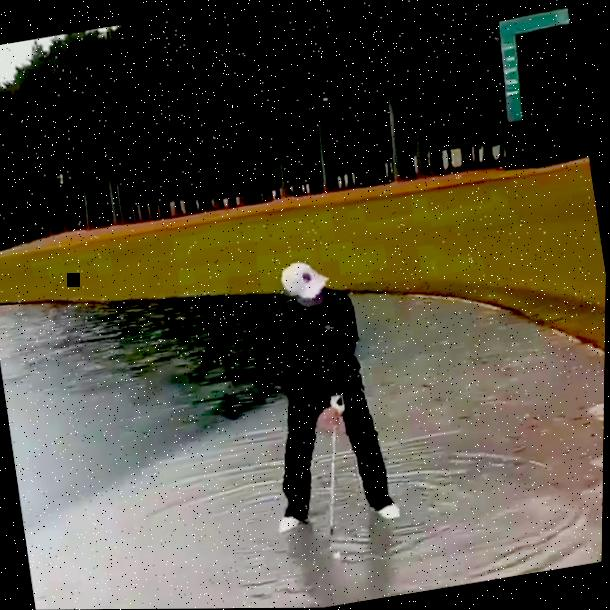GolfBall: (332, 550, 343, 560)
